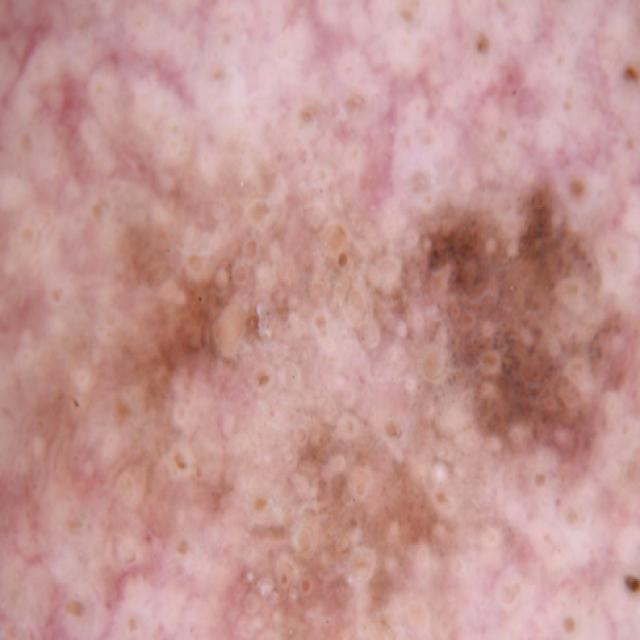Melanoma: (13, 167, 338, 640)
